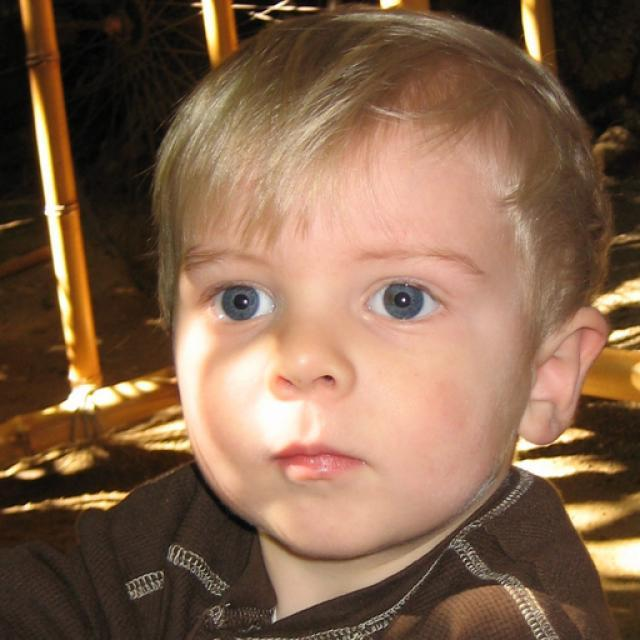neutral: (172, 130, 526, 560)
